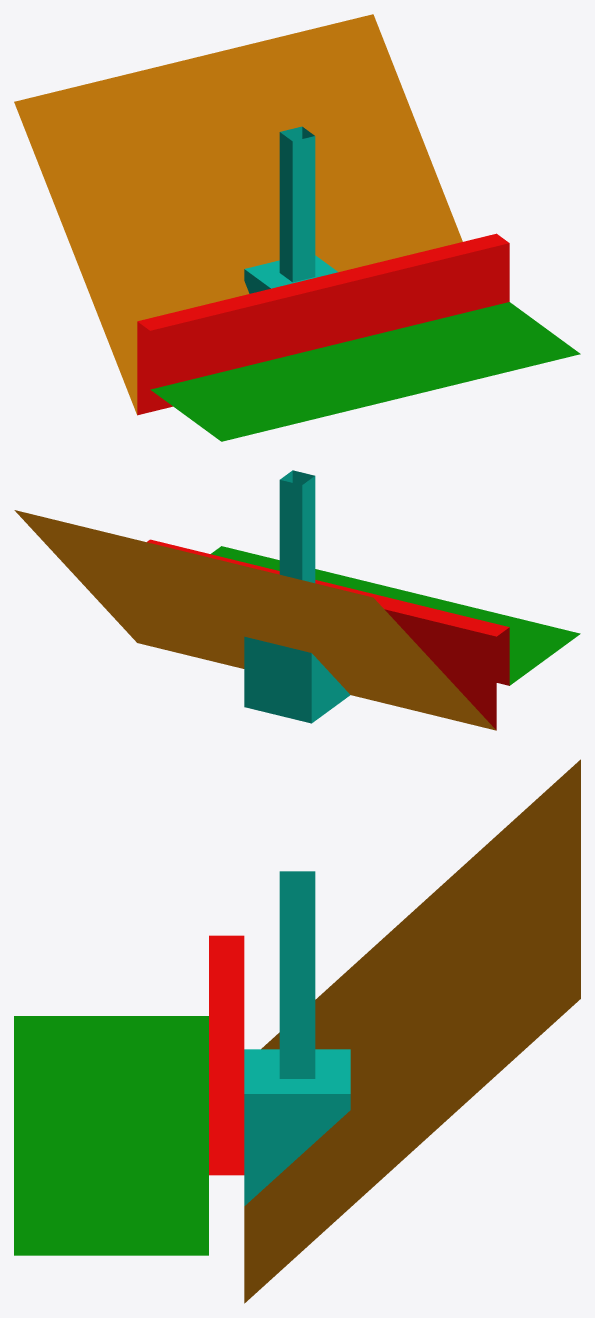
Rendered from None_S_W_E_E_S_W_E_E_BigStrut.fbx.
3 renders of one model, top to bottom at view 1: azimuth 30°, elevation 25°; view 2: azimuth 150°, elevation 25°; view 3: azimuth 270°, elevation 25°, orthographic. The views are drawn at different scales.
Visible parts, largest first — view 1: None_S_W_E_E_S_W_E_E_BigStrut; view 2: None_S_W_E_E_S_W_E_E_BigStrut; view 3: None_S_W_E_E_S_W_E_E_BigStrut.
Part boxes in pixels (x1=…): None_S_W_E_E_S_W_E_E_BigStrut: x1=14, y1=14, x2=580, y2=441; None_S_W_E_E_S_W_E_E_BigStrut: x1=14, y1=470, x2=580, y2=730; None_S_W_E_E_S_W_E_E_BigStrut: x1=14, y1=759, x2=580, y2=1303.
Bounding box in the file's own units: 100 × 59.38 × 100.
